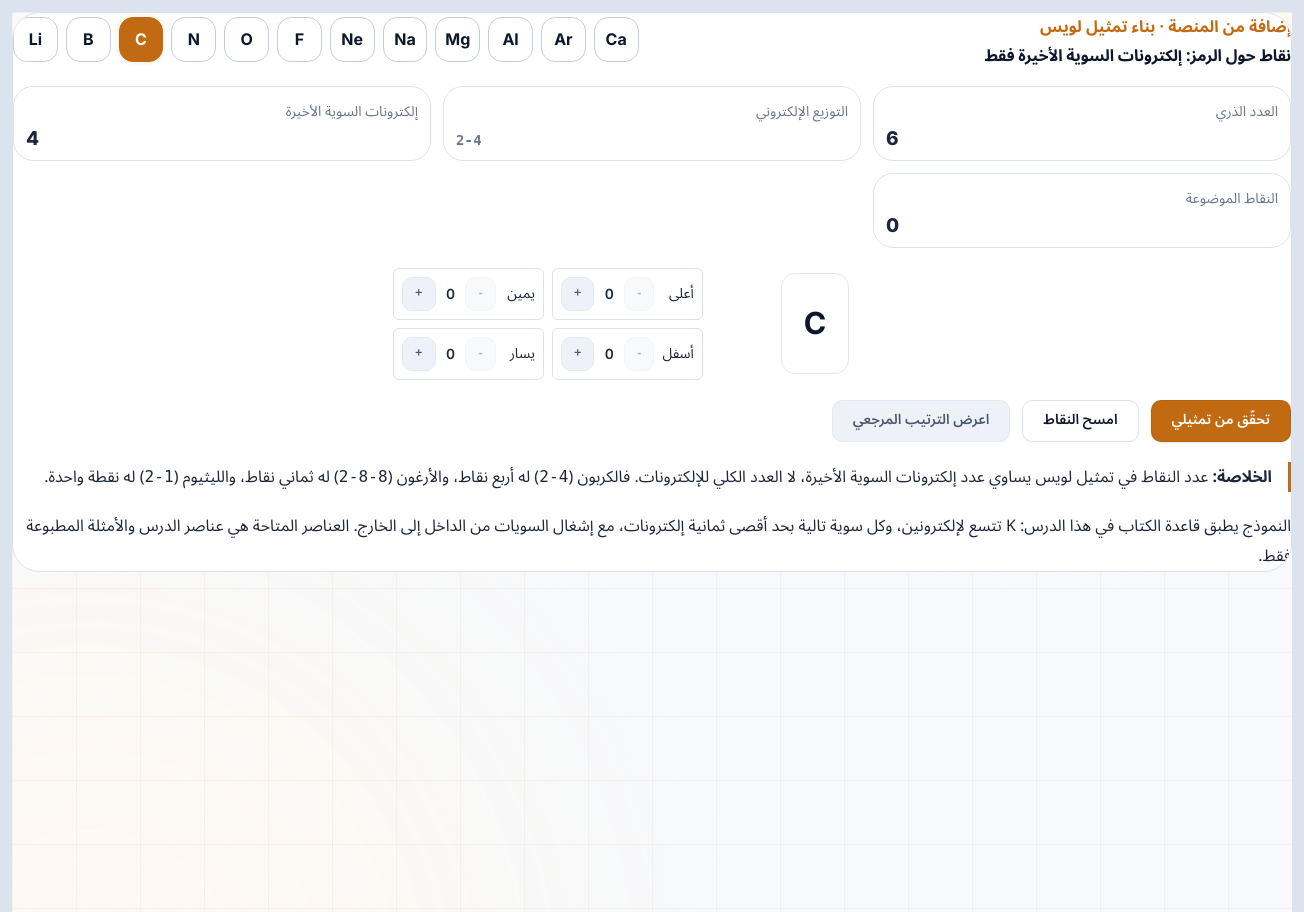
Test case: Lewis dot lab › accepts a correct single-dot arrangement for carbon
Click the button named "إضافة إلكترون إلى جهة أعلى": point(578, 294) [561,277,594,311]
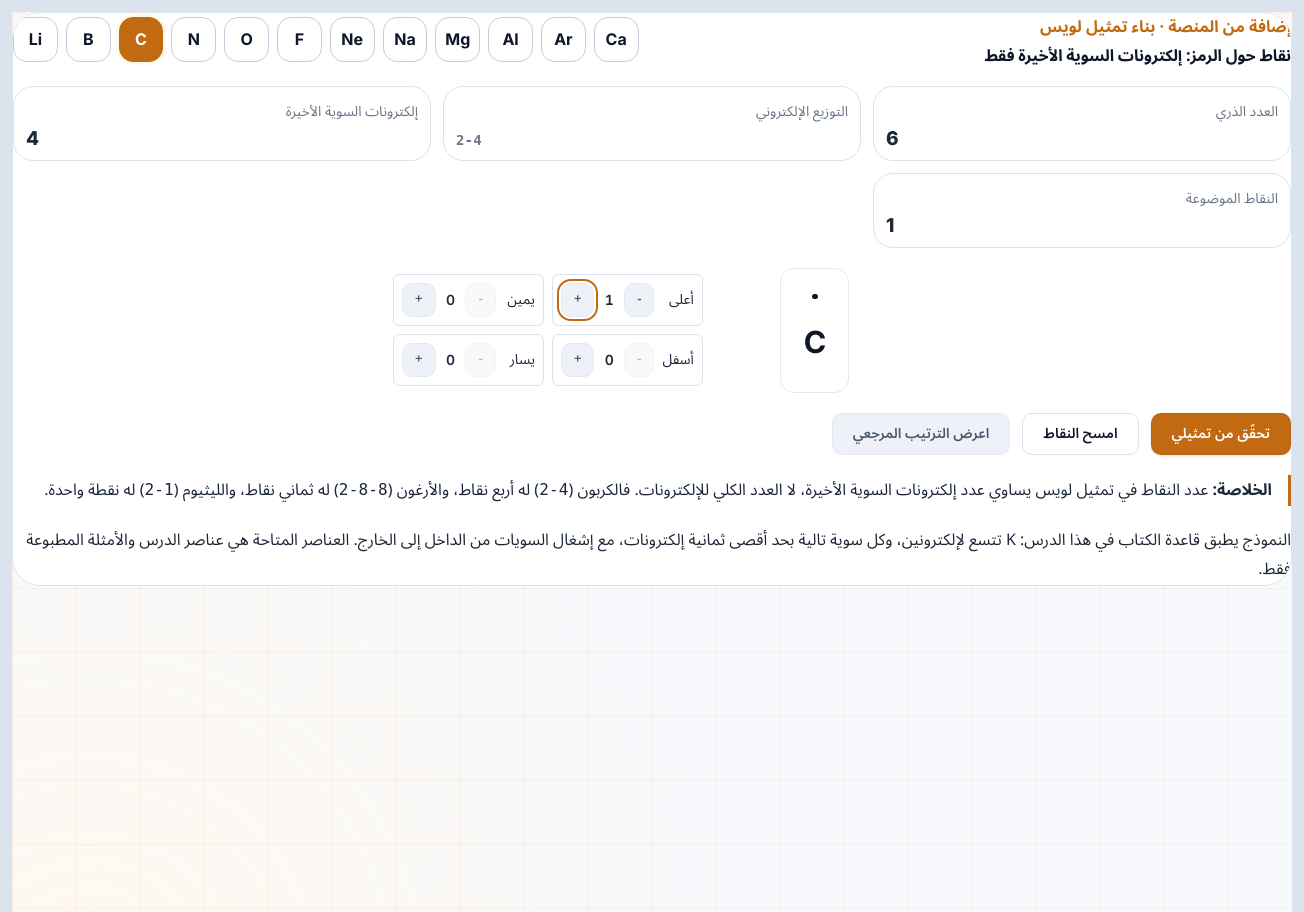
Click the button "+" in the row of "يمين": point(419, 300) [402,283,436,317]
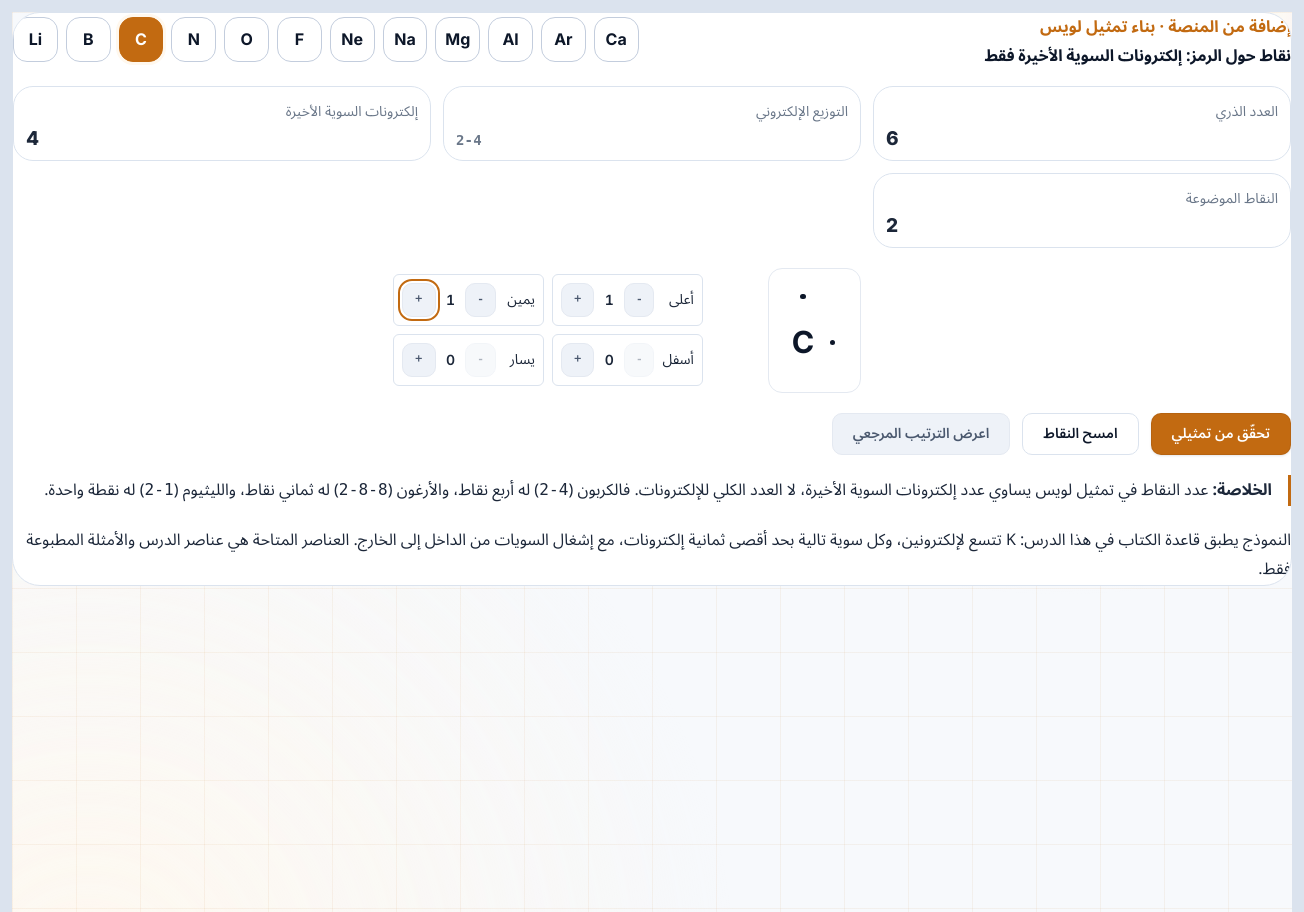
Click the button "+" in the row of "أسفل": point(578, 360) [561,343,594,377]
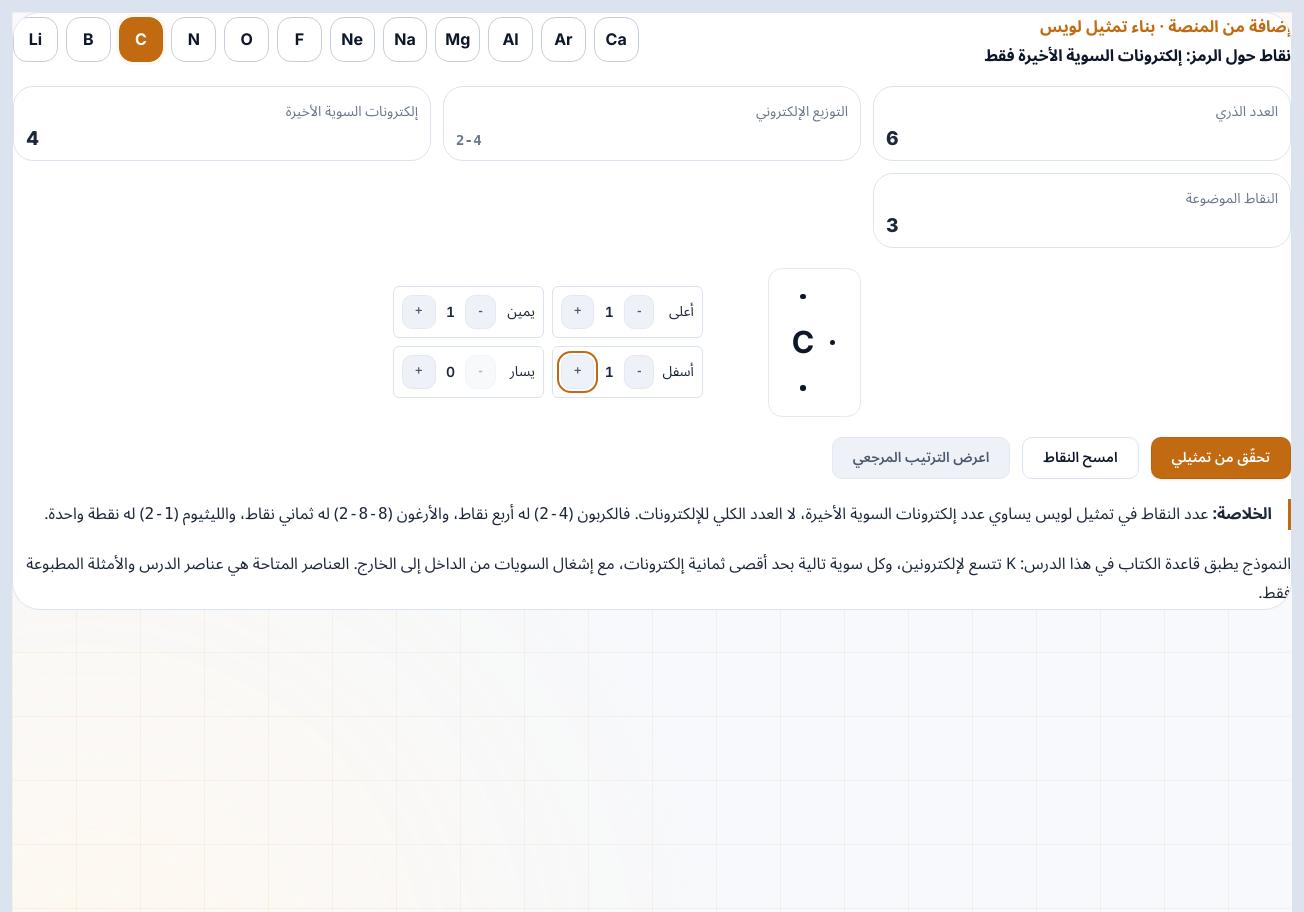
Click the button "+" in the row of "يسار": point(419, 372) [402,355,436,389]
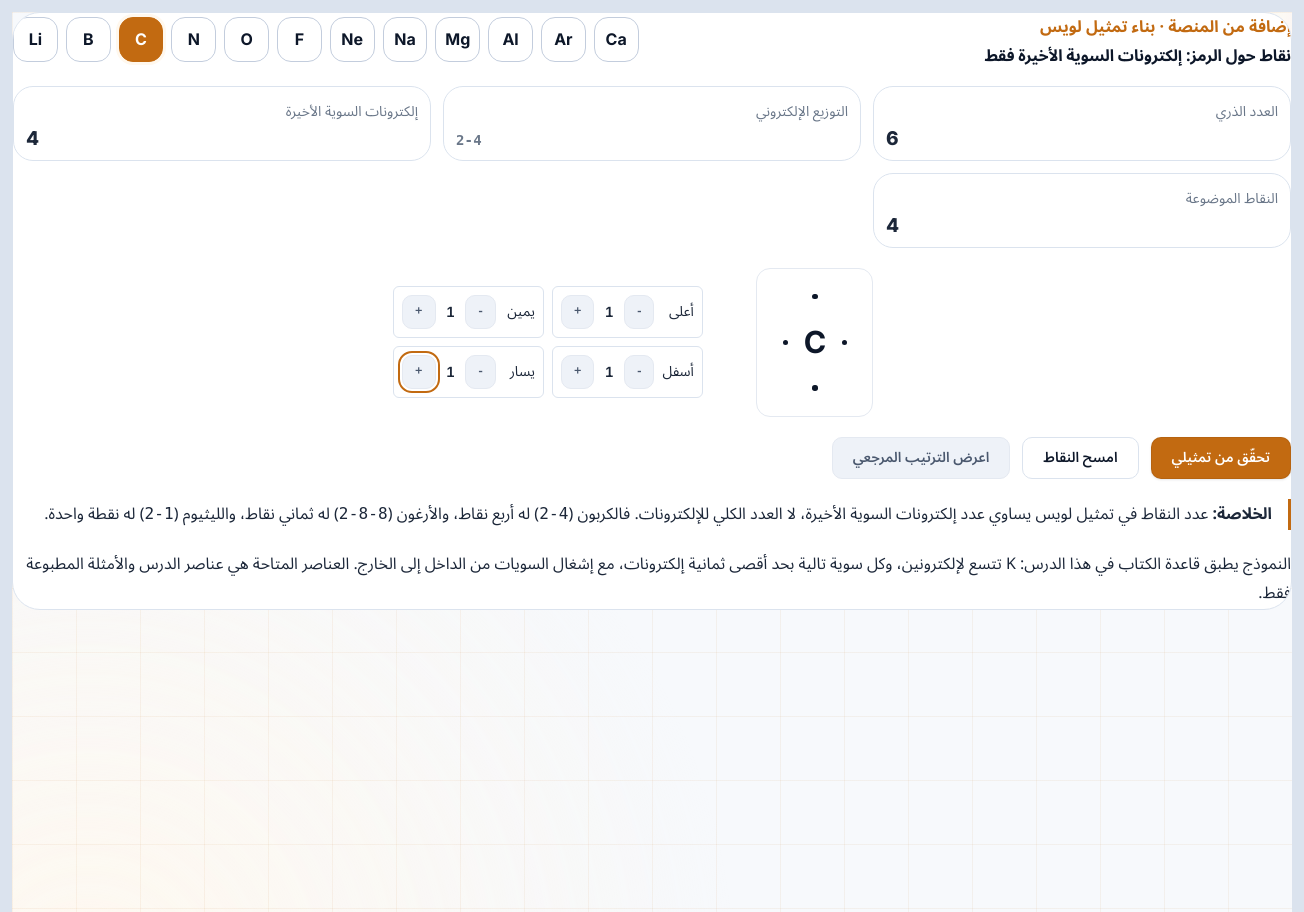
Click the button "تحقّق من تمثيلي": point(1221, 458) [1151,437,1291,479]
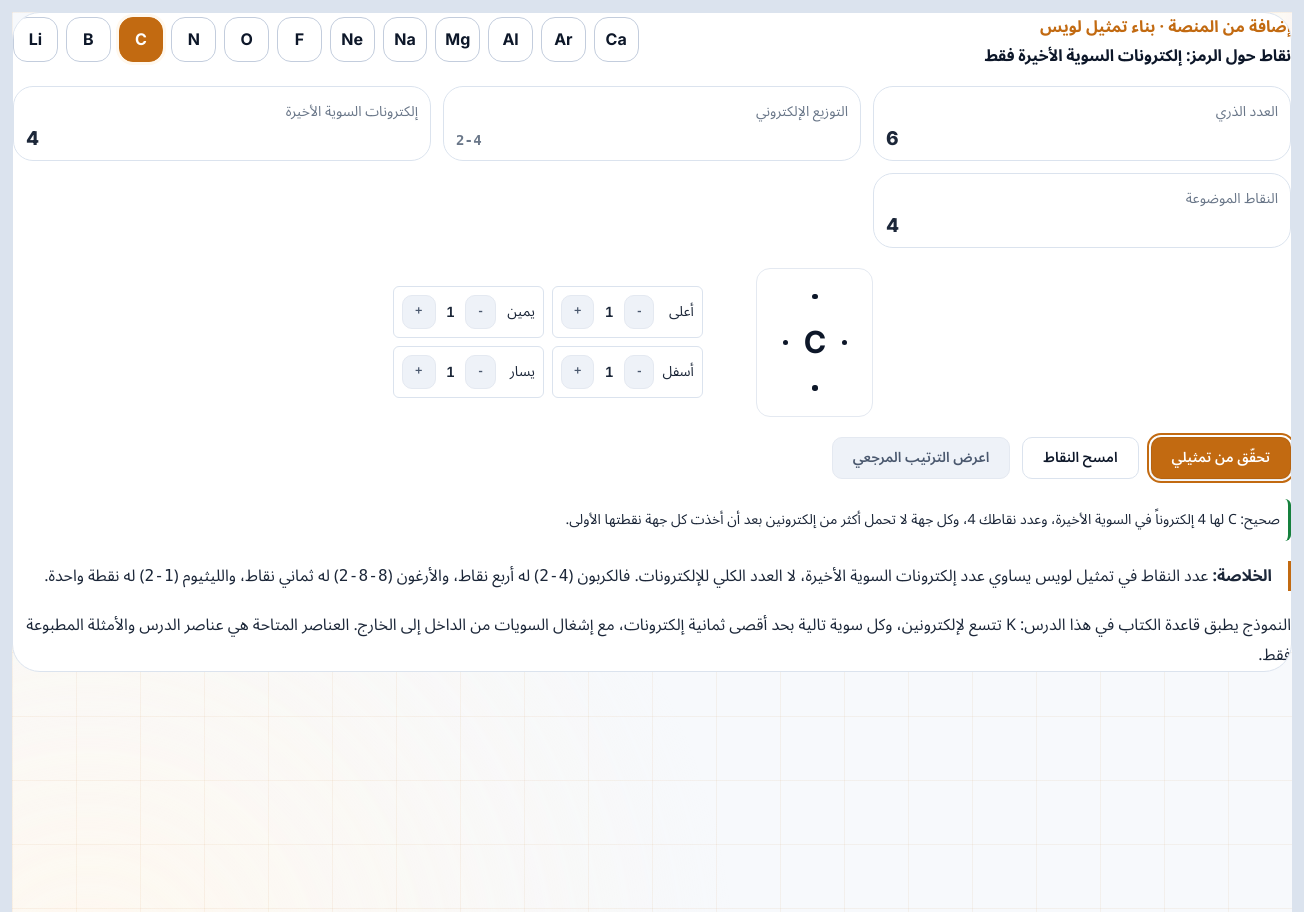
Expected: the text "صحيح: C لها 4 إلكتروناً" is shown, [566,505,1280,534]
